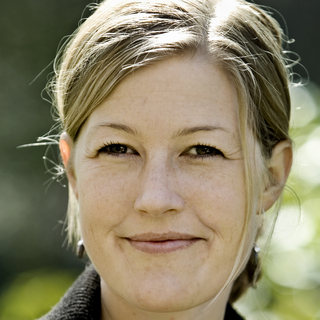eye: (174, 139, 229, 164), (93, 138, 143, 163)
